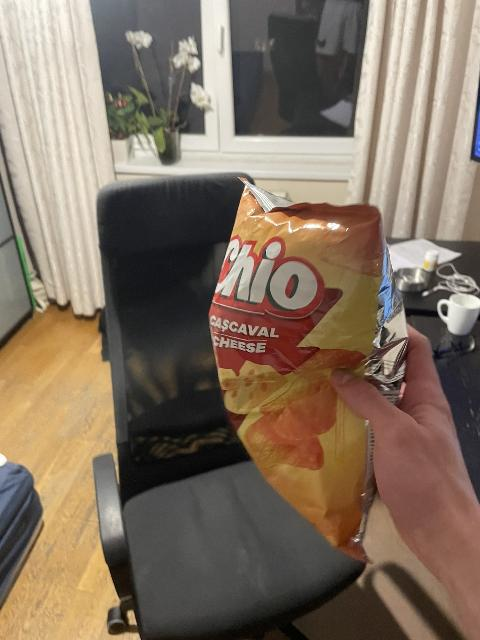Chio Cascaval 125g: (214, 188, 397, 560)
